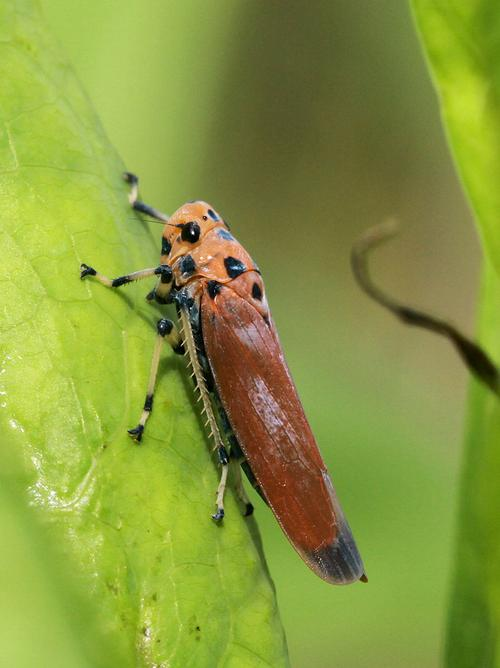Cicadellidae: (80, 170, 367, 585)
